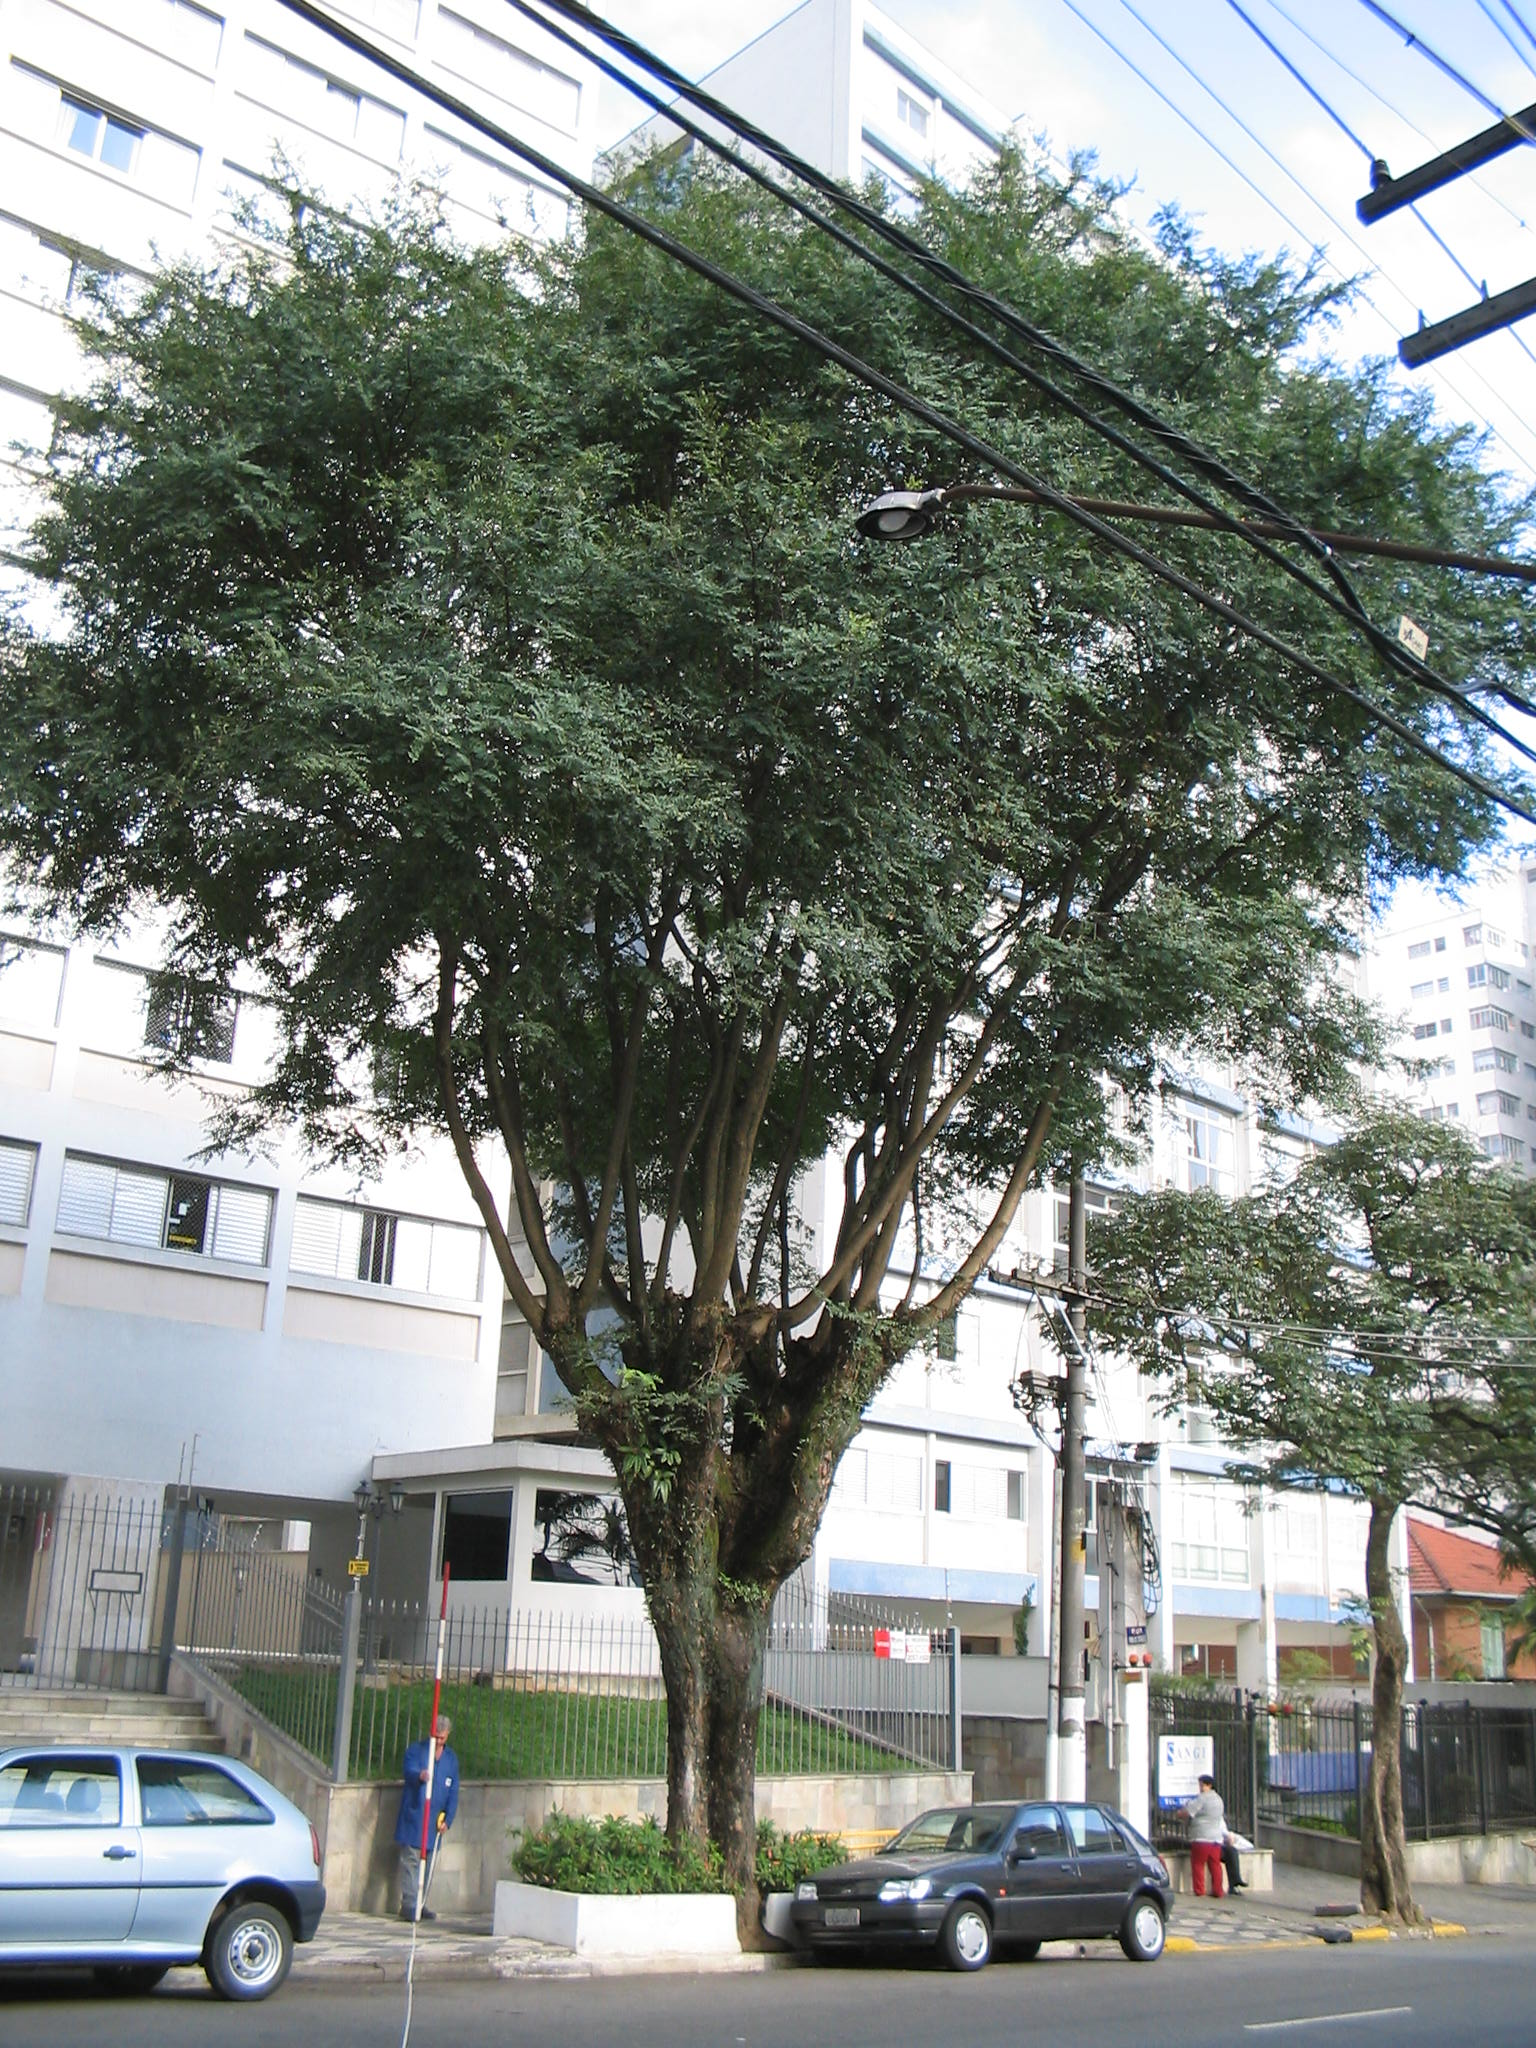crown: (15, 118, 1530, 1218), (1083, 1132, 1533, 1545)
stem: (607, 1574, 808, 1945), (1329, 1517, 1450, 1924)
stick: (402, 1558, 470, 1925)
tree: (6, 113, 1536, 1942), (1071, 1118, 1533, 1934)
